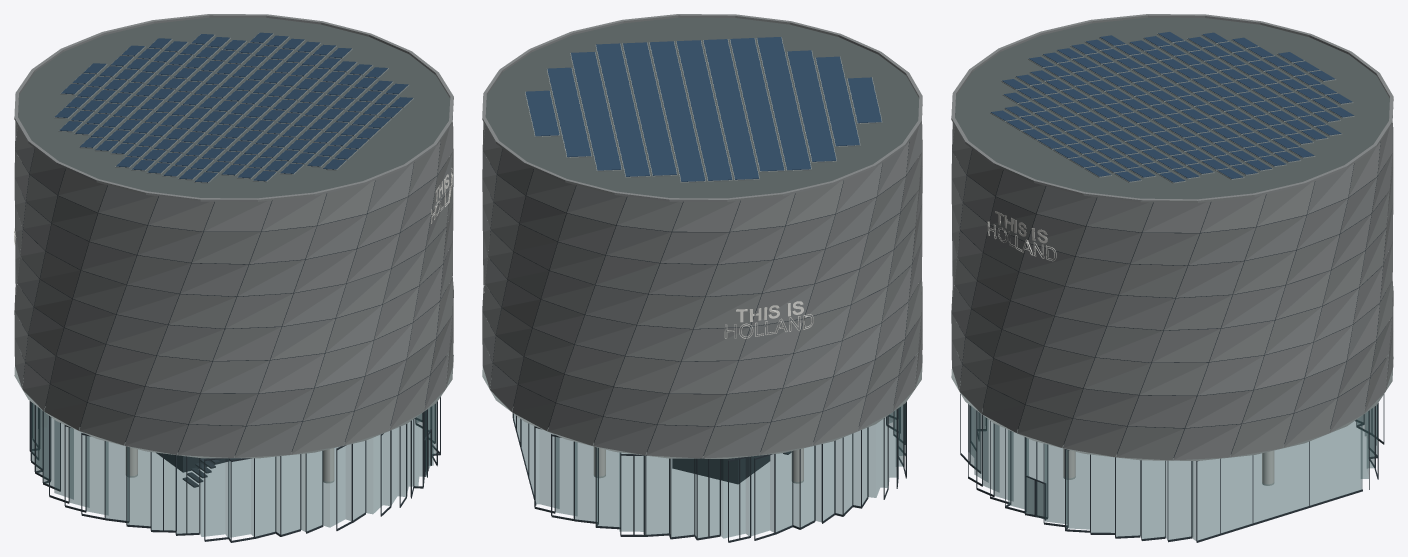
Rendered from this-is-holland.glb.
3 views of the same model, side by side, from view 1: azimuth 30°, elevation 25°; view 2: azimuth 150°, elevation 25°; view 3: azimuth 270°, elevation 25° (orthographic).
Visible parts, largest first — view 1: this-is-holland; view 2: this-is-holland; view 3: this-is-holland.
Part boxes in pixels (x1,y1,x2,y2): this-is-holland: [14, 14, 453, 542]; this-is-holland: [482, 14, 922, 542]; this-is-holland: [951, 14, 1393, 542].
Size of the model in its own units: 28.87 by 25.22 by 28.88.
